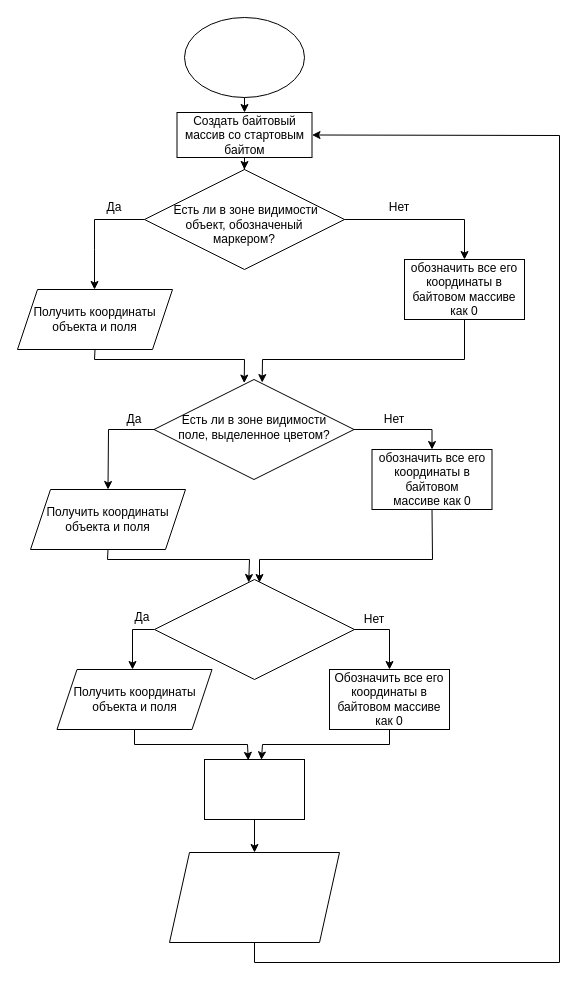
This 585x988 diagram has some shape labels left out. The shapes that lost their labels are listed below. From the top down, each one's centre as x and y in pixels, then its label:
[244,57]: Начало
[254,629]: Есть ли в зоне видимости схват манипулятора ?
[254,789]: Сформировать чек-сумму
[254,897]: Отправить байтовый массив на управляющую плату
